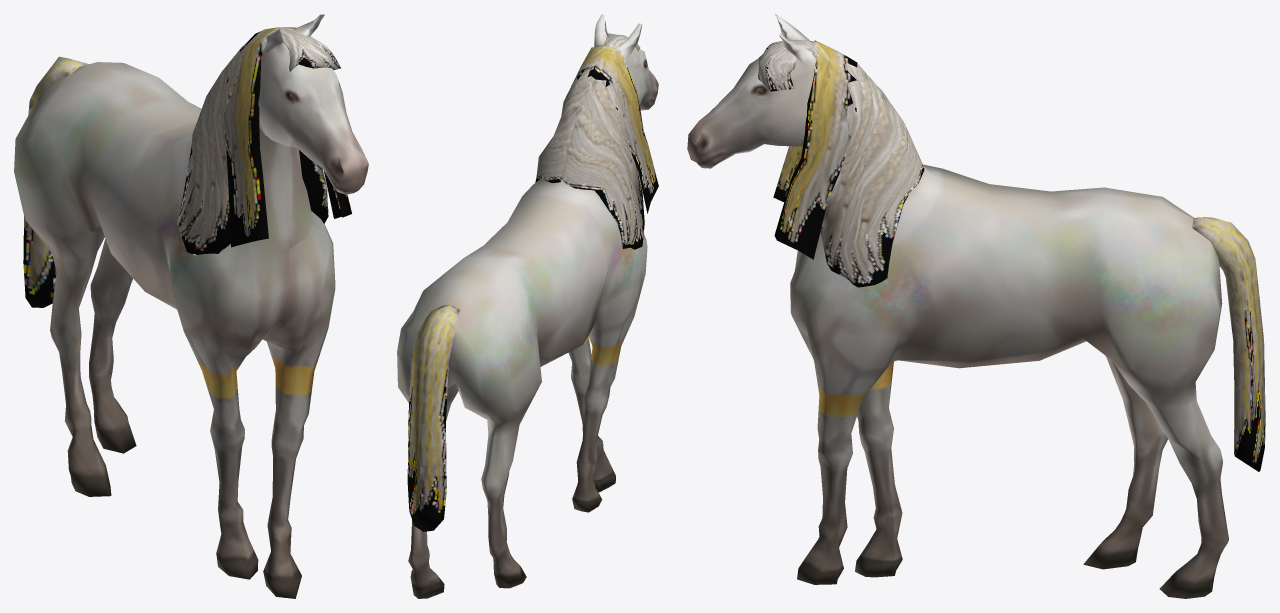
File: body-disablot.glb
3 views of the same model, side by side, from view 1: azimuth 30°, elevation 25°; view 2: azimuth 150°, elevation 25°; view 3: azimuth 270°, elevation 25° (orthographic). The views are drawn at different scales.
Bounding box in the file's own units: 0.6615 × 2.58 × 2.44.
Materials: 1 (1 with a texture image).
